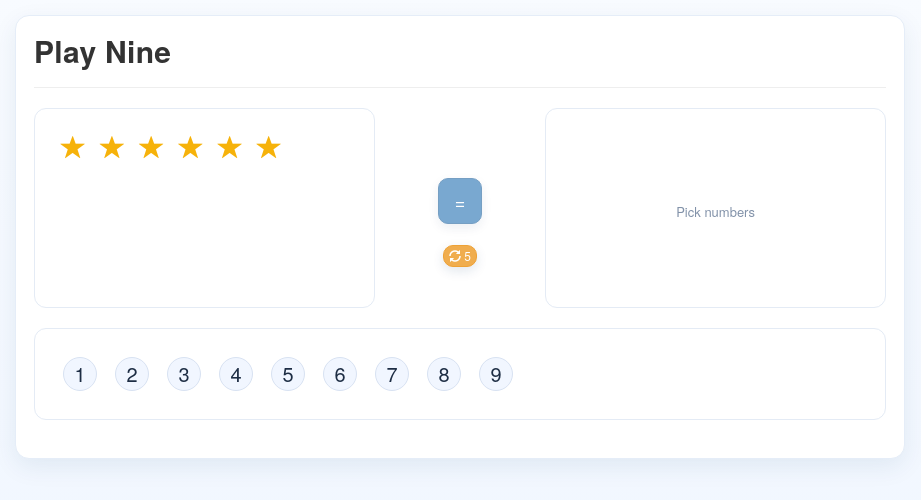
Test: Game › ends the game when redraws run out and no combination is left
Click the button named "Redraw" at coordinates (460, 256), box [443,245,477,267]
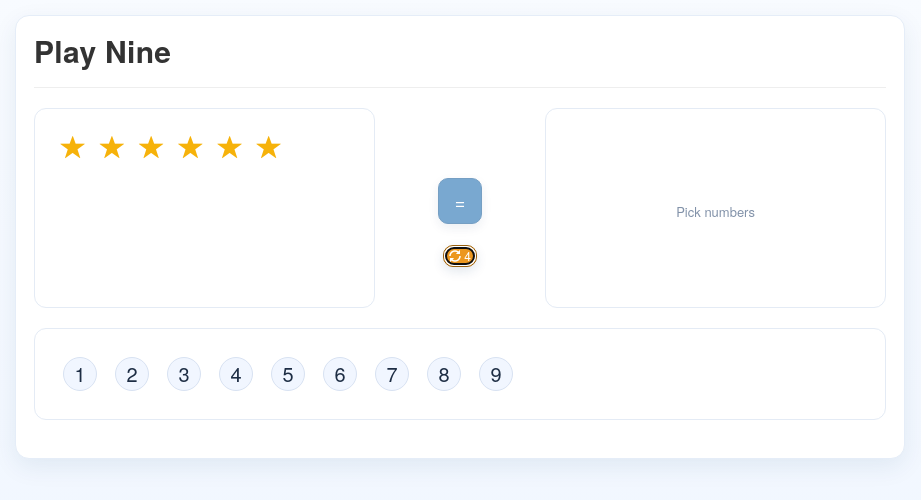
Click the button named "Redraw" at coordinates (460, 256), box [443,245,477,267]
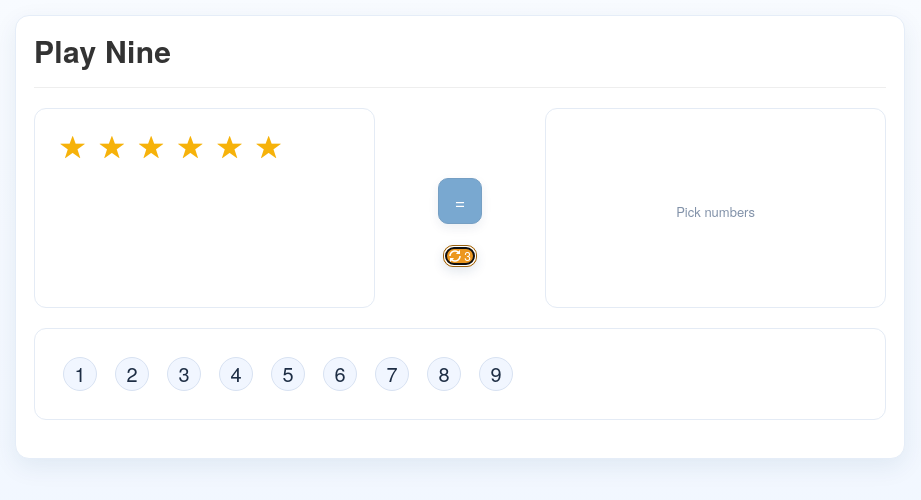
Click the button named "Redraw" at coordinates (460, 256), box [443,245,477,267]
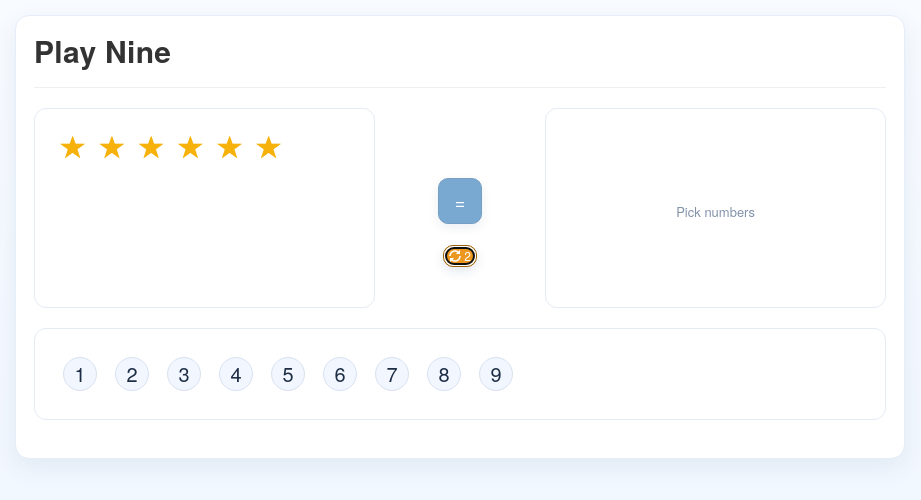
Click the button named "Redraw" at coordinates (460, 256), box [443,245,477,267]
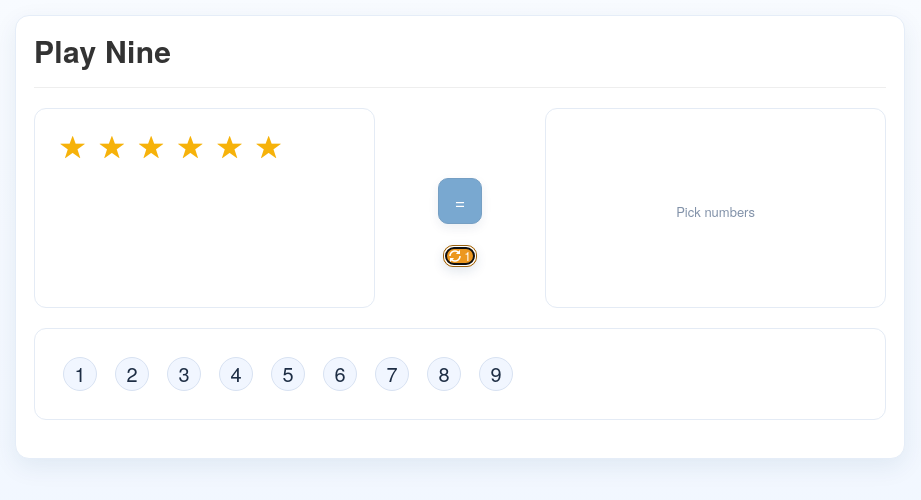
Click the button named "Redraw" at coordinates (460, 256), box [443,245,477,267]
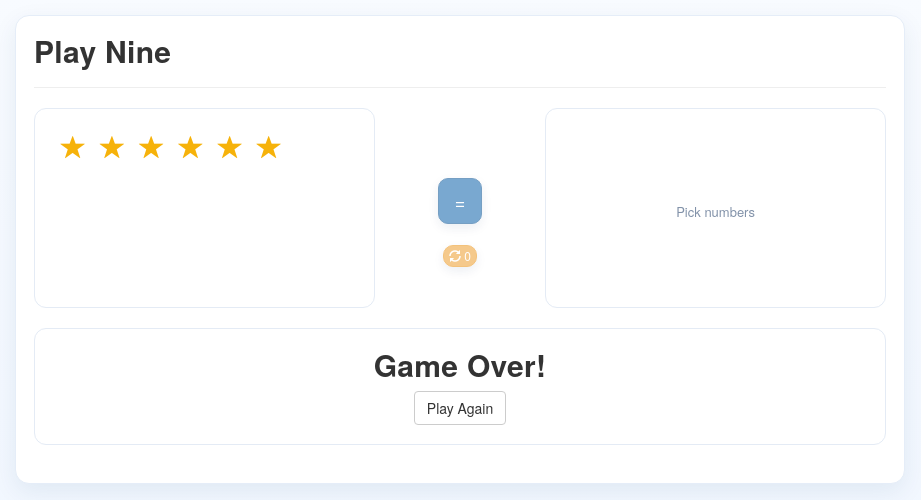
Check: the heading "Game Over!" is shown, box [374,343,546,386]
Check: the button "Play Again" is shown, box [414,391,506,425]
